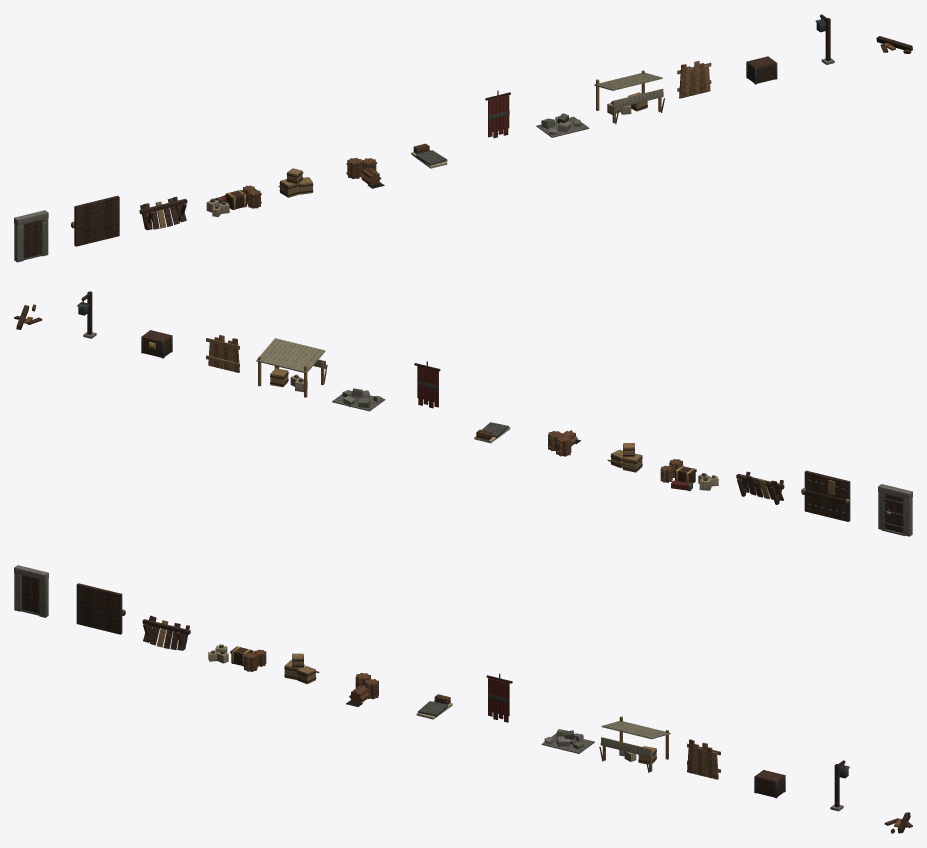
The model's file is keller.gltf.
The picture shows the model from 3 angles, top to bottom: view 1: azimuth 30°, elevation 25°; view 2: azimuth 150°, elevation 25°; view 3: azimuth 330°, elevation 25°; orthographic projection.
Visible parts, largest first — view 1: door_cellar, banner_band_cloth, tarp_stores_tarp; view 2: door_cellar, tarp_stores_tarp, banner_band_cloth; view 3: door_cellar, banner_band_cloth, tarp_stores_tarp.
Part boxes in pixels (left/top/right/bottom): door_cellar: left=74, top=195, right=119, bottom=246; banner_band_cloth: left=488, top=95, right=509, bottom=132; tarp_stores_tarp: left=594, top=72, right=662, bottom=90; door_cellar: left=804, top=470, right=850, bottom=521; tarp_stores_tarp: left=256, top=338, right=325, bottom=373; banner_band_cloth: left=417, top=366, right=438, bottom=402; door_cellar: left=76, top=583, right=122, bottom=634; banner_band_cloth: left=488, top=678, right=509, bottom=716; tarp_stores_tarp: left=601, top=721, right=670, bottom=739.
Size of the model in its own units: 53.45 by 3.24 by 2.72.
1 material, 1 textured.
